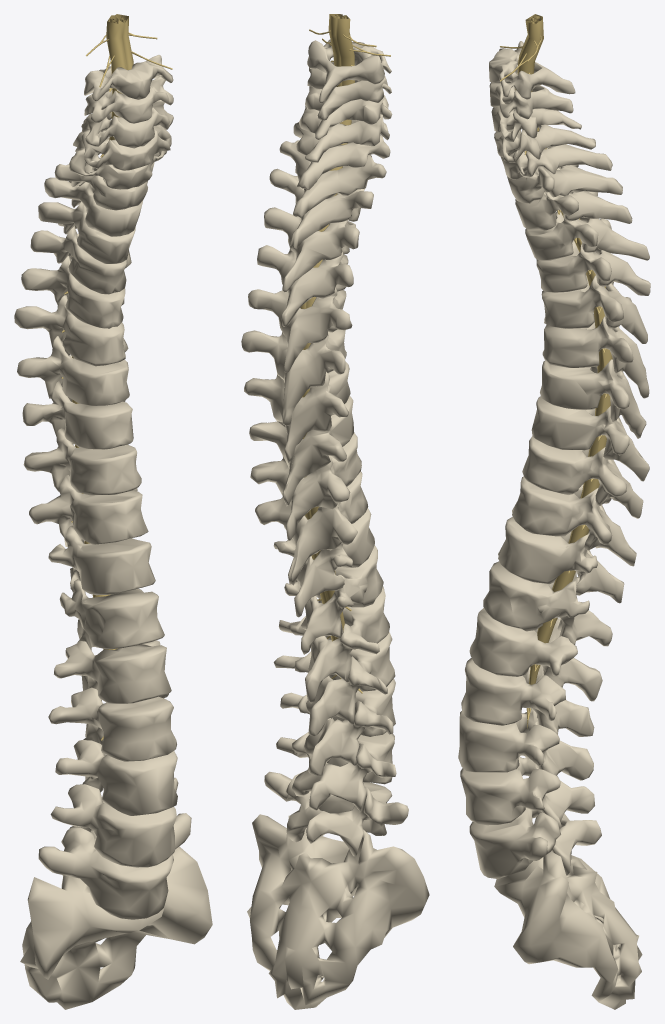
File: trunk-mobile.glb
3 views of the same model, side by side, from view 1: azimuth 30°, elevation 25°; view 2: azimuth 150°, elevation 25°; view 3: azimuth 270°, elevation 25° (orthographic). The views are drawn at different scales.
Parts seen in each view (by area): view 1: za.sacrum, za.vertebra-l5, za.vertebra-l2, za.vertebra-l4, za.vertebra-l3, za.vertebra-l1, za.vertebra-t12, za.vertebra-t10, za.vertebra-t11, za.vertebra-t9, za.vertebra-t8, za.vertebra-t7 (+12 smaller); view 2: za.sacrum, za.vertebra-l5, za.vertebra-l4, za.vertebra-l2, za.vertebra-l3, za.vertebra-l1, za.vertebra-t10, za.vertebra-t6, za.vertebra-t9, za.vertebra-t7, za.vertebra-t12, za.vertebra-t8 (+12 smaller); view 3: za.sacrum, za.vertebra-l3, za.vertebra-l2, za.vertebra-l4, za.vertebra-l1, za.vertebra-l5, za.vertebra-t12, za.vertebra-t11, za.vertebra-t10, za.vertebra-t9, za.vertebra-t8, za.vertebra-t7 (+12 smaller).
Boxes of the visible parts, x1,y1,x2,y2 form: za.sacrum: (20,846,212,1009); za.vertebra-l5: (38,813,191,919); za.vertebra-l2: (48,687,176,761); za.vertebra-l4: (50,777,178,867); za.vertebra-l3: (55,736,177,815); za.vertebra-l1: (54,640,171,703); za.vertebra-t12: (59,579,164,650); za.vertebra-t10: (29,475,148,547); za.vertebra-t11: (48,525,155,595); za.vertebra-t9: (23,428,141,495); za.vertebra-t8: (22,381,133,449); za.vertebra-t7: (17,336,129,405); za.sacrum: (247,814,429,1009); za.vertebra-l5: (264,771,408,856); za.vertebra-l4: (276,732,396,811); za.vertebra-l2: (273,632,395,735); za.vertebra-l3: (280,678,395,775); za.vertebra-l1: (278,586,389,703); za.vertebra-t10: (255,471,368,585); za.vertebra-t6: (241,329,346,425); za.vertebra-t9: (250,432,361,540); za.vertebra-t7: (244,361,350,462); za.vertebra-t12: (284,545,383,654); za.vertebra-t8: (249,396,354,506); za.sacrum: (494,813,642,1009); za.vertebra-l3: (458,708,593,780); za.vertebra-l2: (461,658,594,736); za.vertebra-l4: (460,756,594,829); za.vertebra-l1: (469,608,602,701); za.vertebra-l5: (469,808,601,878); za.vertebra-t12: (483,561,612,646); za.vertebra-t11: (498,516,624,603); za.vertebra-t10: (512,476,636,566); za.vertebra-t9: (522,436,643,518); za.vertebra-t8: (531,396,649,481); za.vertebra-t7: (540,359,646,438).
Bounding box in the file's own units: 0.1221 × 0.6792 × 0.1203.
